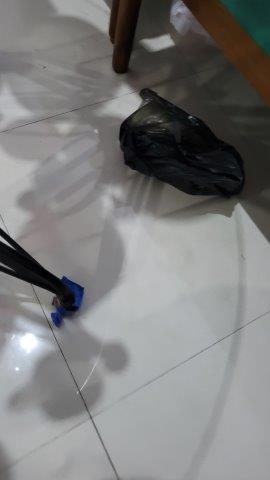plastik: (120, 89, 247, 198)
